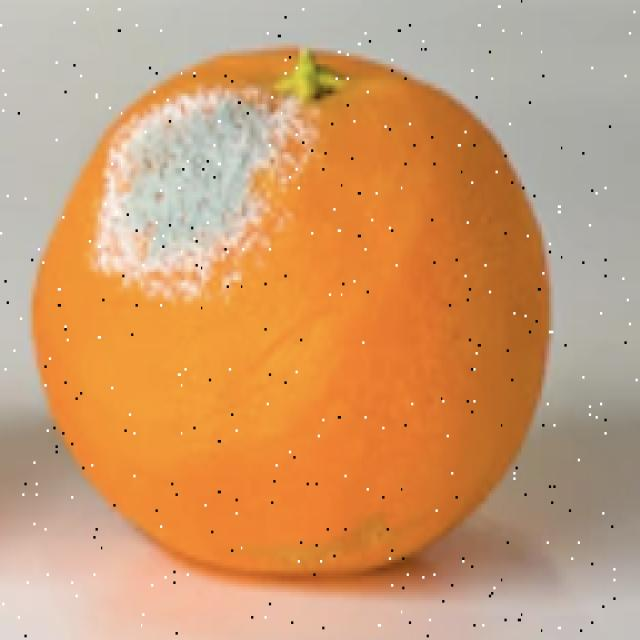sedikit_busuk: (31, 43, 552, 581)
